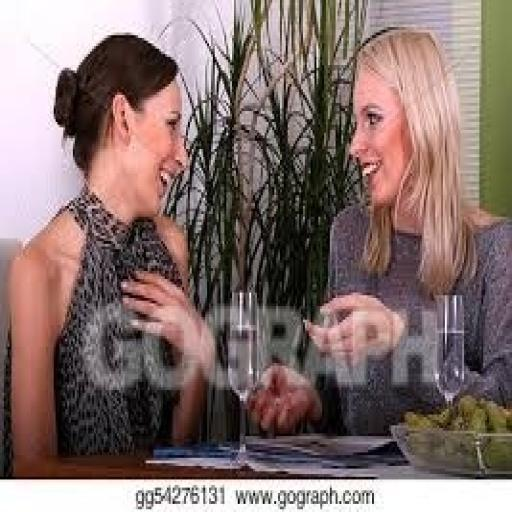laughing: (8, 16, 506, 463)
